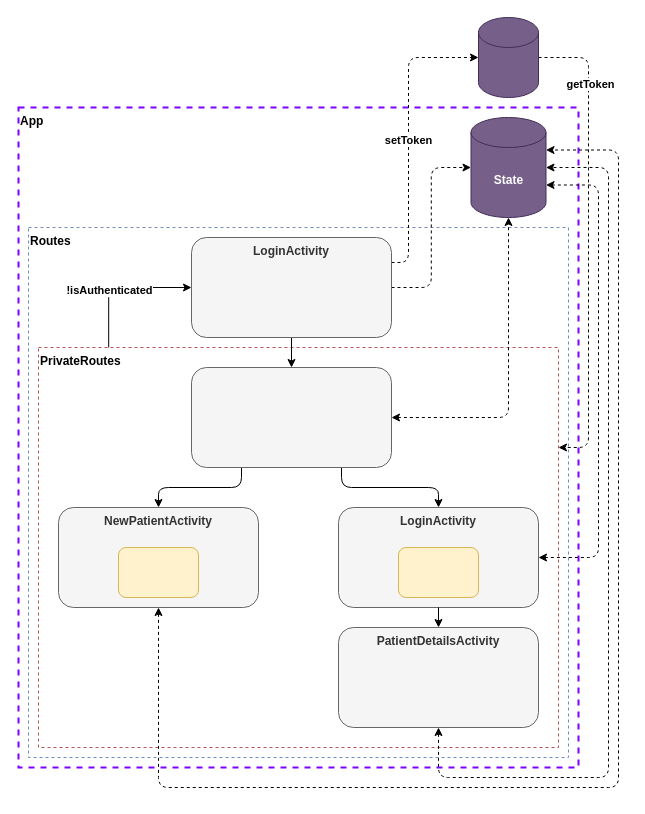
Some shapes in this 645 by 814 pixel diagram are drawn without their labels. The shapes that lost their labels are listed below. From the top down, each one's centre as x and y in pixels, then its label:
At (508,57): "Session Storage".
At (291,417): "DashboardActivity".
At (158,572): "Patient Data Form".
At (438,572): "Patient Search Item".
